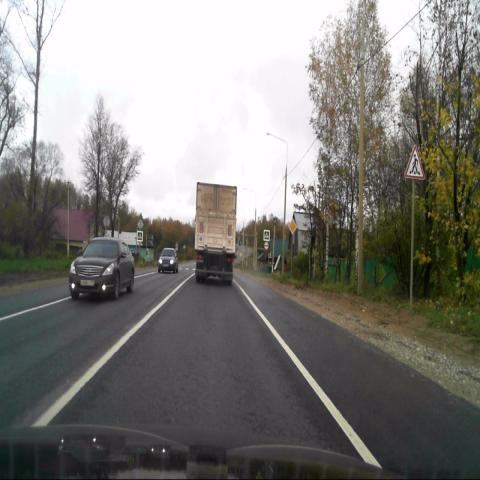1_22: (404, 145, 424, 181)
